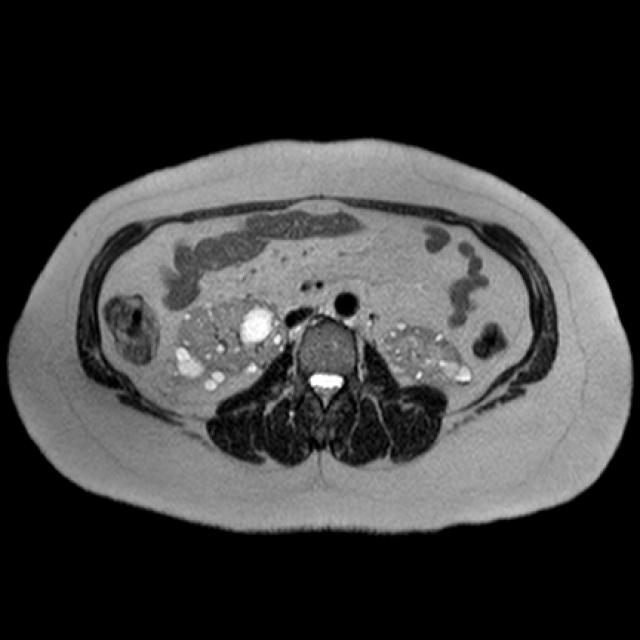sag: (168, 293, 289, 394)
sol: (380, 317, 473, 390)
